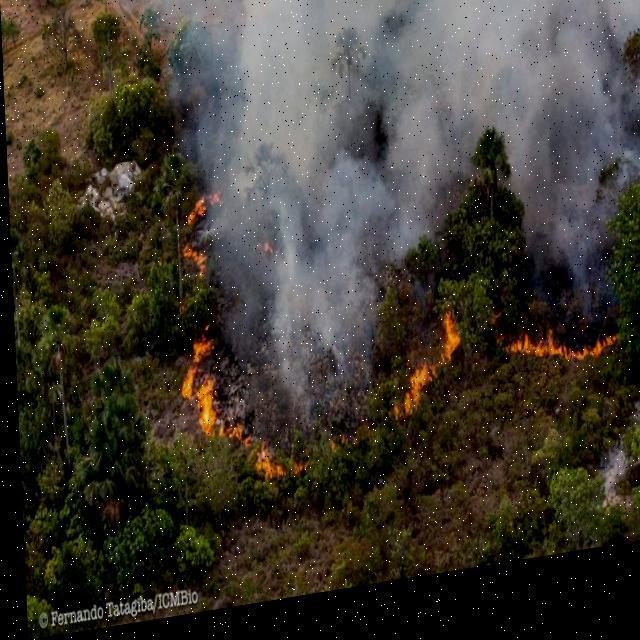Fire: (179, 343, 301, 510), (384, 335, 462, 437), (502, 327, 619, 394), (176, 250, 208, 289), (186, 192, 217, 229)
